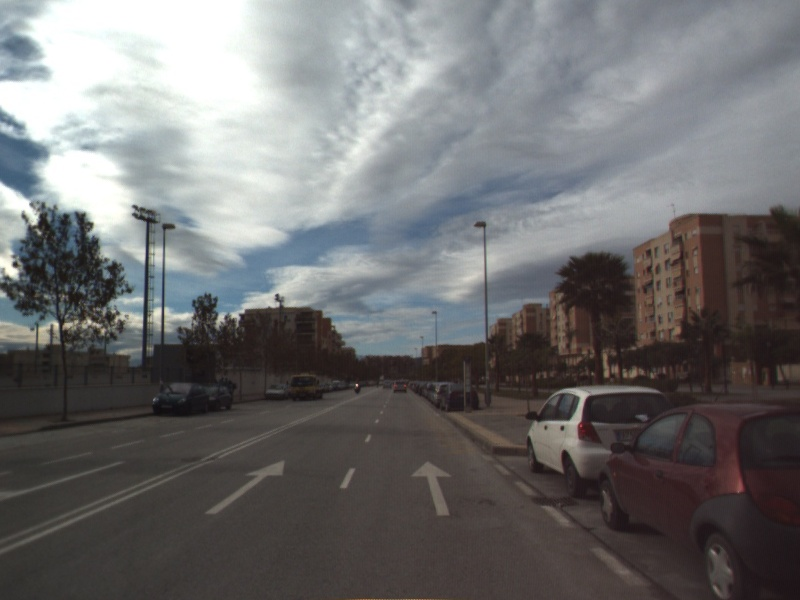STRAIGHT: (203, 458, 287, 516), (409, 459, 454, 517)
